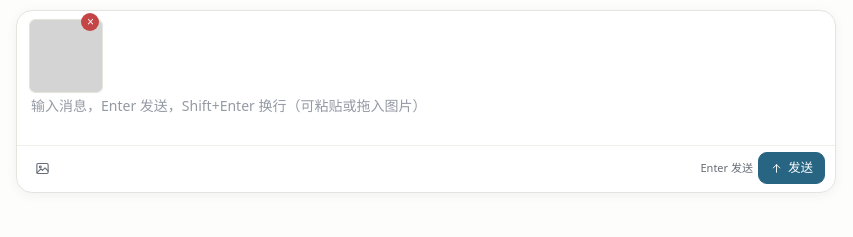
Test case: attachments › blocks unsupported models without discarding attachments
This screenshot has width=853, height=237.
What coordinates should you click on to do the following:
click the button "发送"
I would click on:
 (792, 168)
Its box is [758, 152, 825, 184].
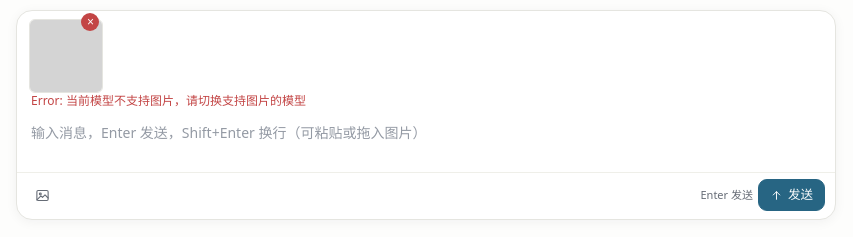
Expected: the message "Error: 当前模型不支持图片，请切换支持图片的模型" is shown, [31, 92, 306, 109]
